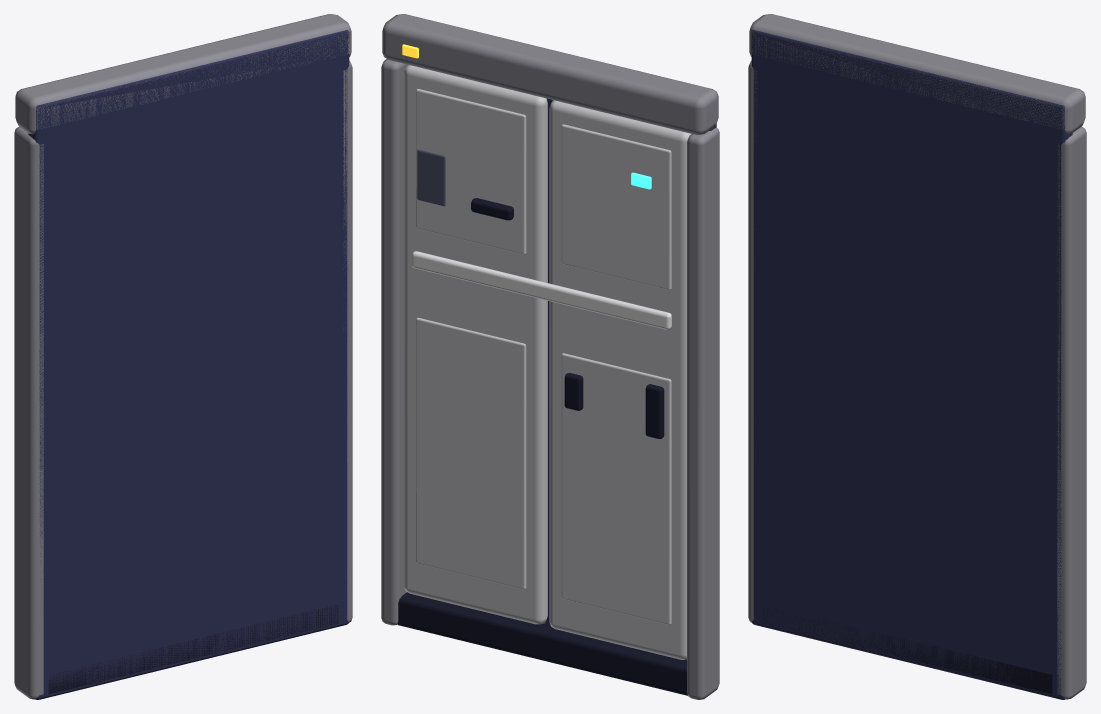
File: prop.props_lounge.wall_locker_door.glb
The picture shows the model from 3 angles, left to right: view 1: azimuth 30°, elevation 25°; view 2: azimuth 150°, elevation 25°; view 3: azimuth 330°, elevation 25°; orthographic projection.
Parts seen in each view (by area): view 1: prop.props_lounge.wall_locker_door; view 2: prop.props_lounge.wall_locker_door; view 3: prop.props_lounge.wall_locker_door.
Boxes of the visible parts, x1,y1,x2,y2 form: prop.props_lounge.wall_locker_door: (14, 14, 352, 699); prop.props_lounge.wall_locker_door: (381, 14, 719, 699); prop.props_lounge.wall_locker_door: (748, 14, 1086, 699).
Bounding box in the file's own units: 0.8 × 1.42 × 0.094.
